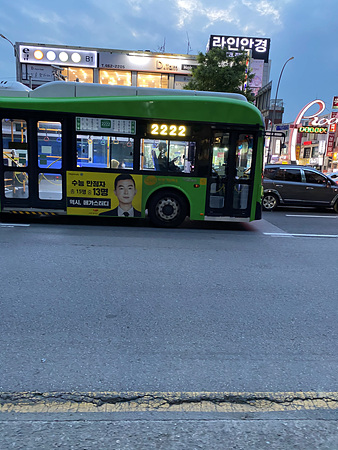entrance: (206, 125, 252, 223)
